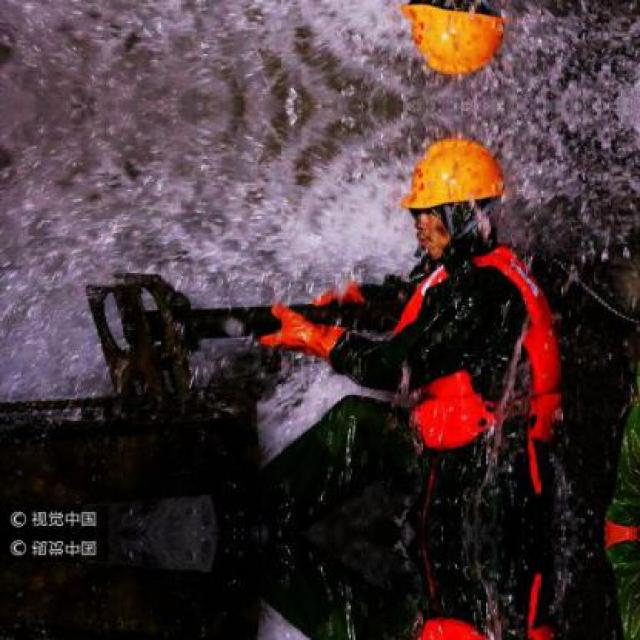helmet: (396, 126, 510, 267), (395, 0, 510, 86)
